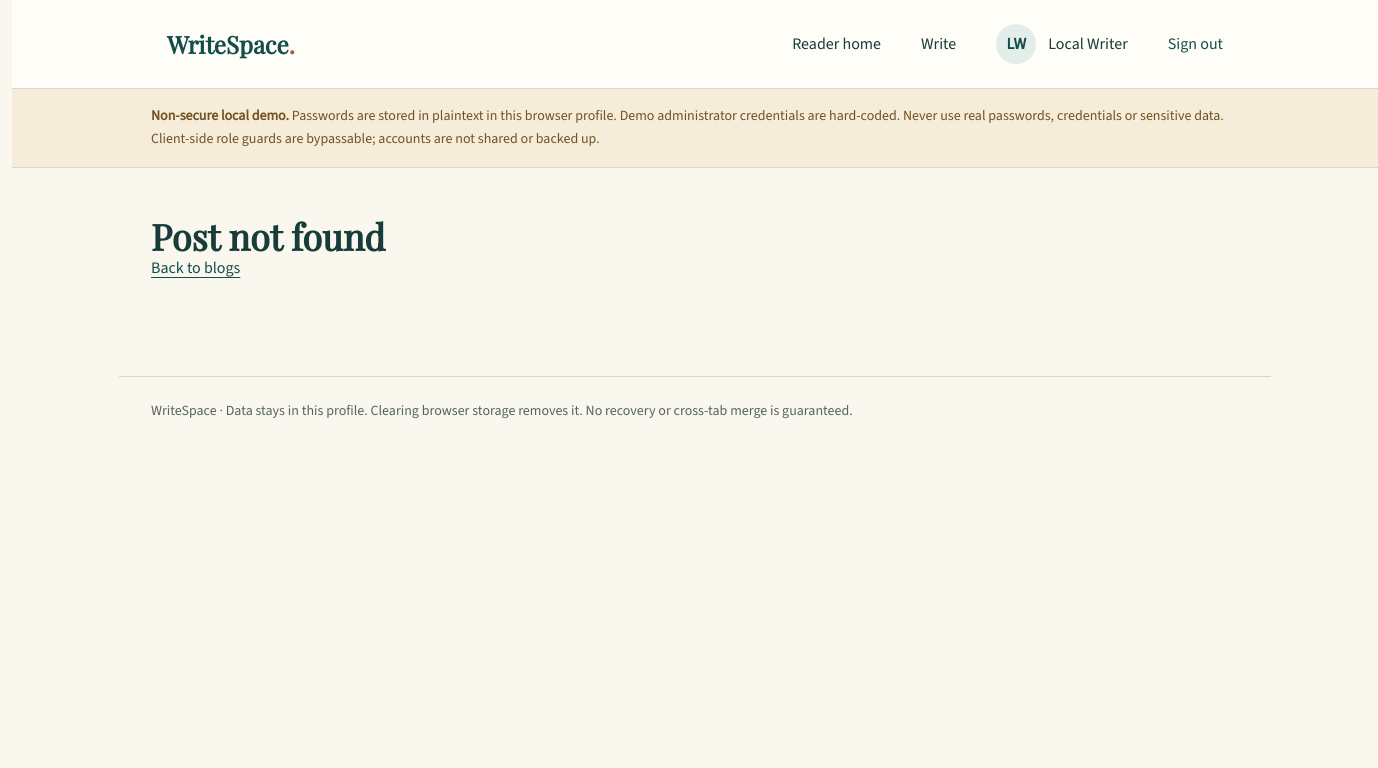
post collection and reader components › shows exact missing state and an activated back link at /blog/missing
This screenshot has width=1378, height=768.
expect the heading "Post not found" is shown: met, box [151,212,385,260]
Click the link "Back to blogs" at (196, 267), box [151,256,240,278]
(page scrolled)
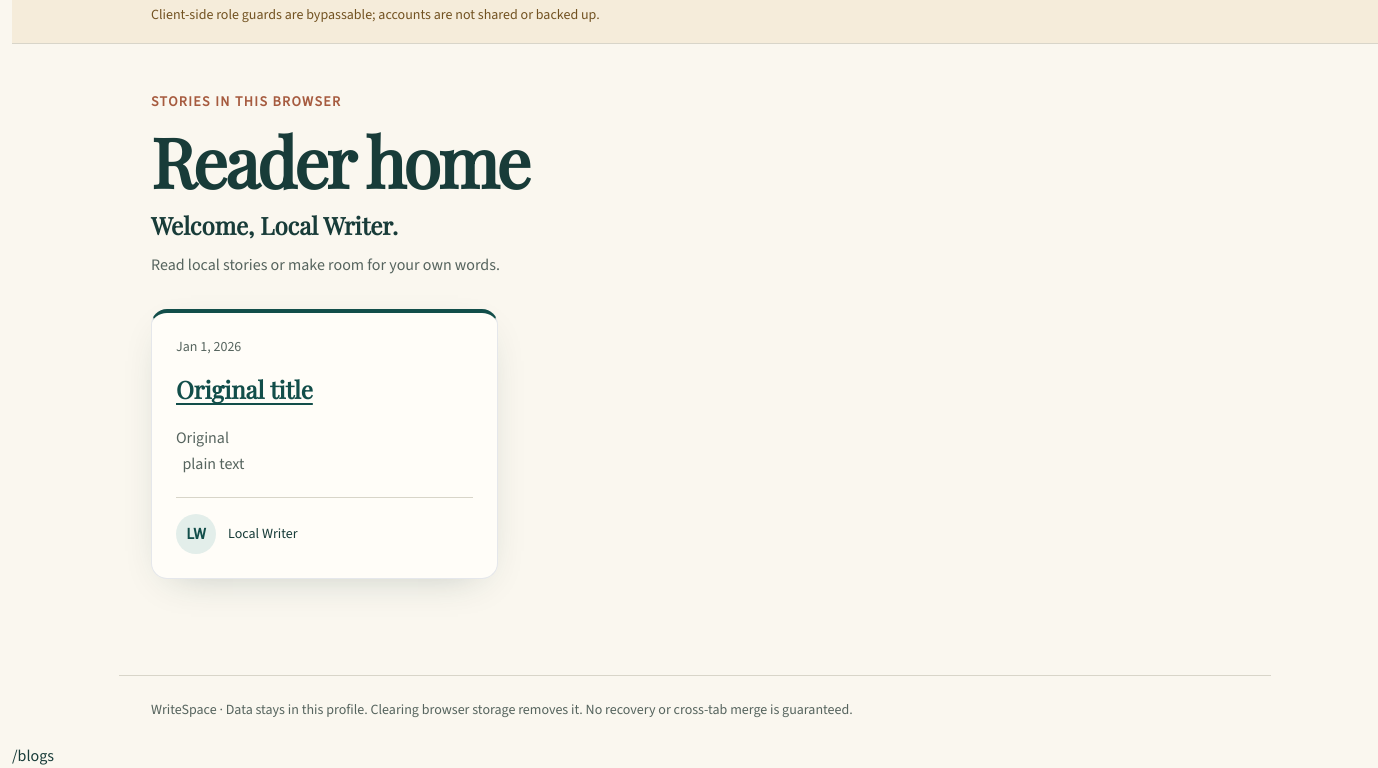
expect the text named "Current route" reads "/blogs": met, box [12,745,54,766]
